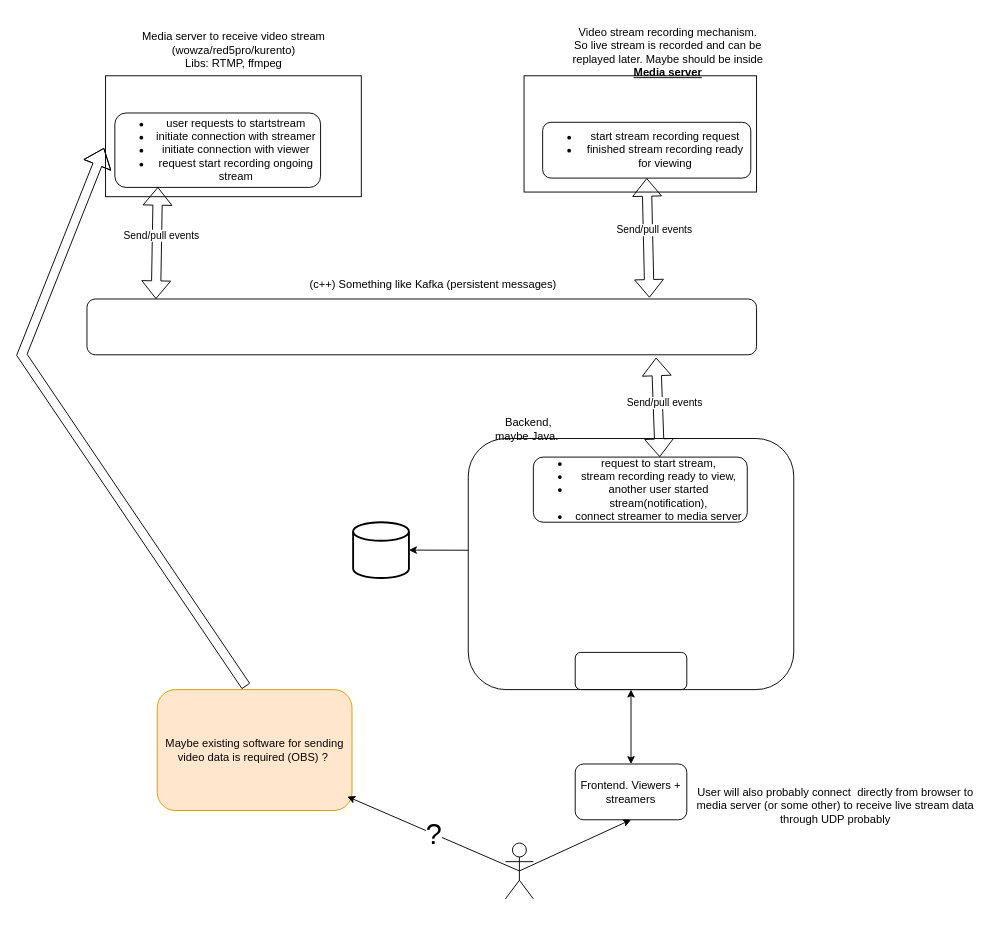
Some shapes in this 996 by 934 pixel diagram are drawn without their labels. The centre of each missing label's shape, as x and y in pixels:
Event bus: the point at 421,326
REST API: the point at 630,670
User: the point at 519,870
